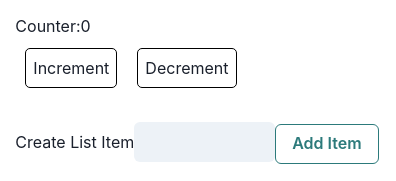
Scenario: App › increments the counter when the increment button is clicked
Click the button "Increment" at point(71, 68), box [25,48,117,88]
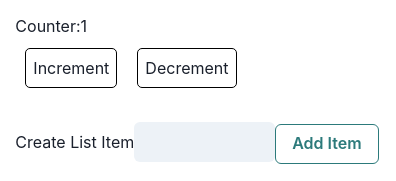
Now the text with test id "counter-value" reads "1", box [81,16,87,36]
